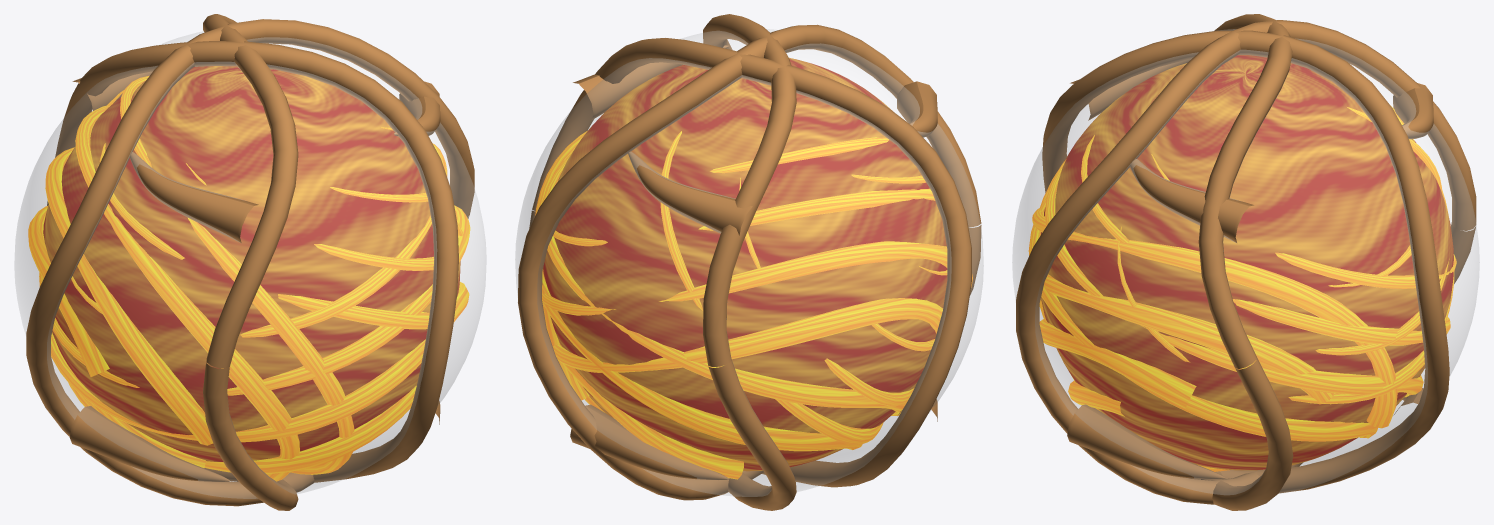
Rendered from fire_orb.glb.
The picture shows the model from 3 angles, left to right: view 1: azimuth 30°, elevation 25°; view 2: azimuth 150°, elevation 25°; view 3: azimuth 270°, elevation 25°; orthographic projection.
Visible parts, largest first — view 1: fire thin polished glass skin, fire dense patterned elemental interior, Fire orb broad hammered copper flame bands, fire sculpted elemental flow; view 2: fire thin polished glass skin, fire dense patterned elemental interior, Fire orb broad hammered copper flame bands, fire sculpted elemental flow; view 3: fire thin polished glass skin, fire dense patterned elemental interior, Fire orb broad hammered copper flame bands, fire sculpted elemental flow.
Boxes of the visible parts, x1,y1,x2,y2 form: fire thin polished glass skin: [14, 31, 486, 498]; fire dense patterned elemental interior: [43, 66, 460, 461]; Fire orb broad hammered copper flame bands: [26, 14, 474, 510]; fire sculpted elemental flow: [28, 75, 470, 481]; fire thin polished glass skin: [515, 29, 983, 496]; fire dense patterned elemental interior: [543, 57, 947, 471]; Fire orb broad hammered copper flame bands: [518, 14, 981, 510]; fire sculpted elemental flow: [535, 131, 972, 479]; fire thin polished glass skin: [1012, 29, 1479, 494]; fire dense patterned elemental interior: [1041, 55, 1453, 470]; Fire orb broad hammered copper flame bands: [1016, 14, 1476, 510]; fire sculpted elemental flow: [1028, 105, 1456, 471].
Size of the model in its own units: 0.1597 by 0.1594 by 0.15.
4 materials, 2 textured.
